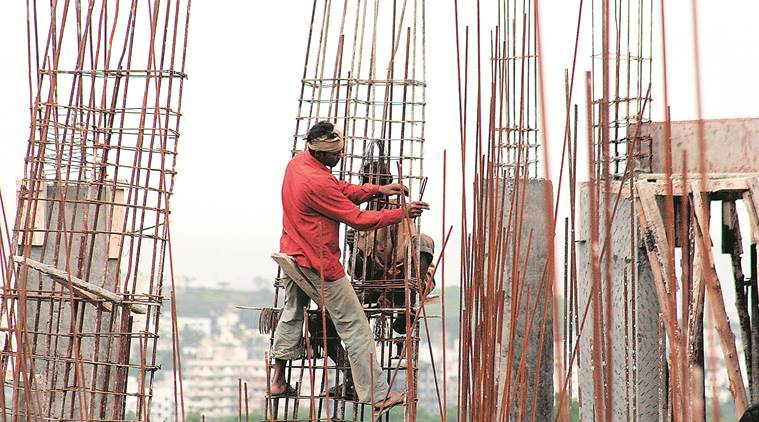NOTSAFE: (276, 118, 349, 294)
